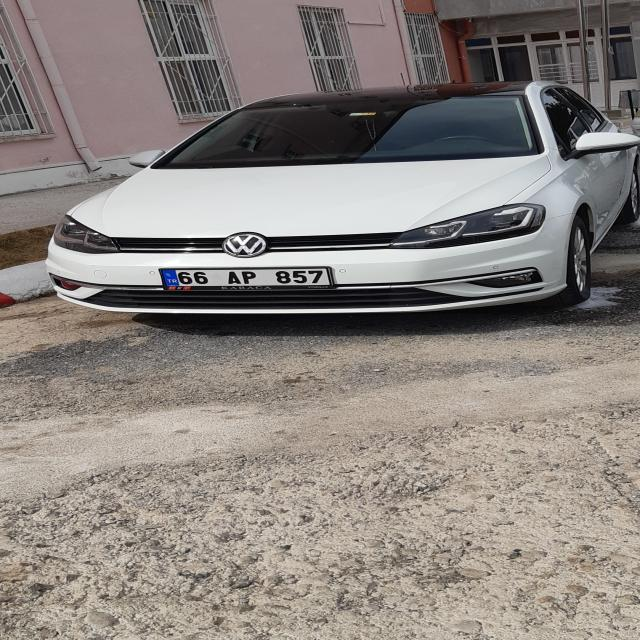plate: (160, 268, 330, 286)
